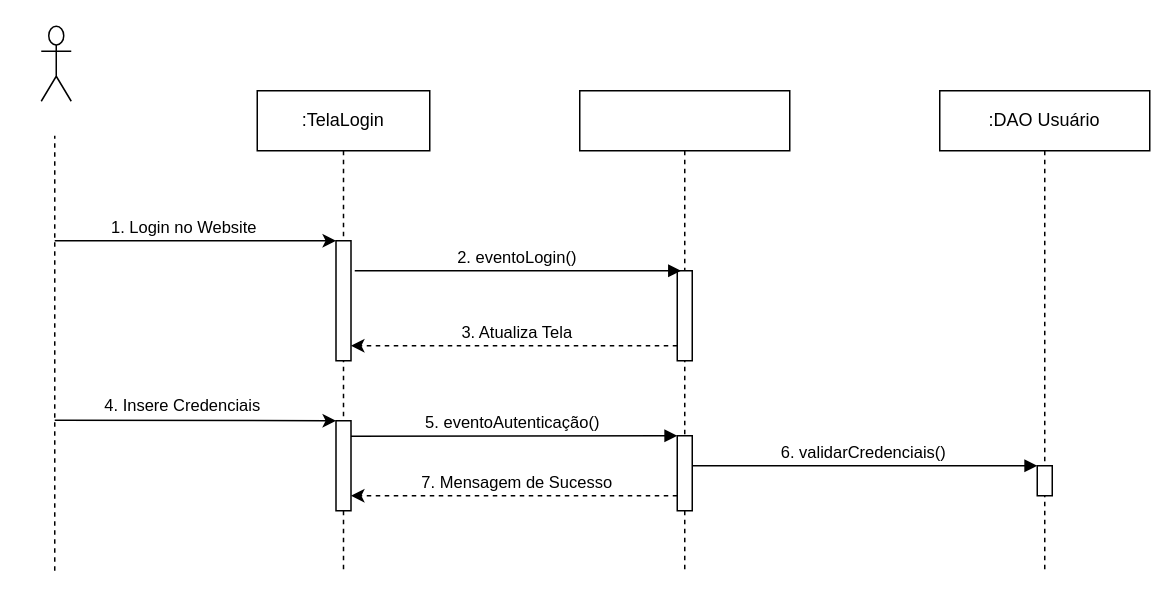
Image size: 1176x599. Some labels were removed from this diagram. The shapes that lost their labels are listed below. From the top down, each one's centre as x and y in pixels, then its label:
the point at 55,63: Usuário
the point at 684,330: :ControladorLogin
